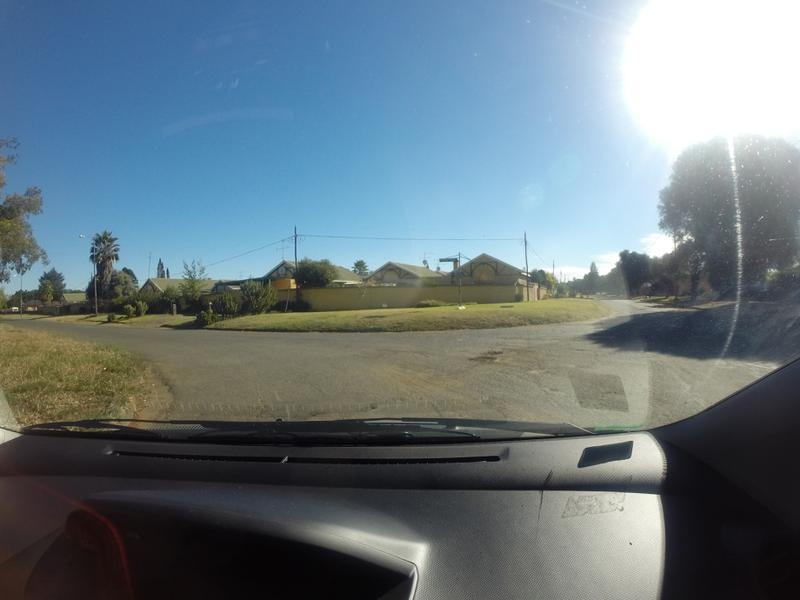pothole: (464, 333, 516, 378)
